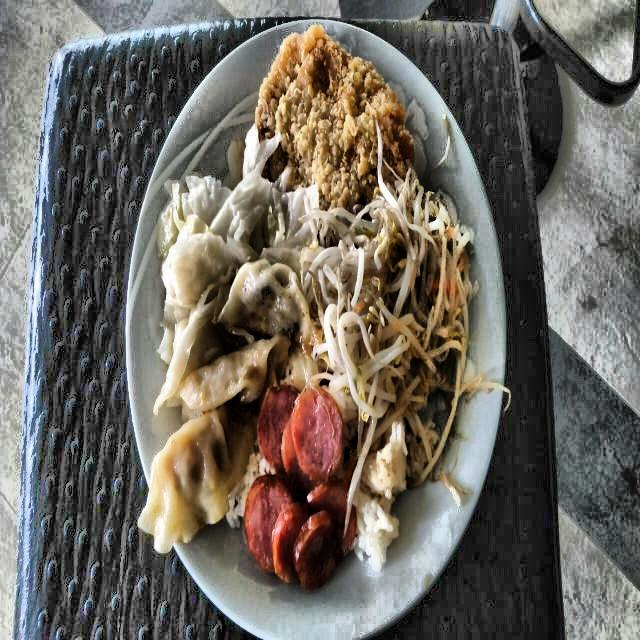Food: (140, 262, 304, 556), (254, 27, 416, 190), (336, 206, 462, 388), (241, 384, 352, 590), (157, 162, 297, 260), (348, 425, 419, 579)
